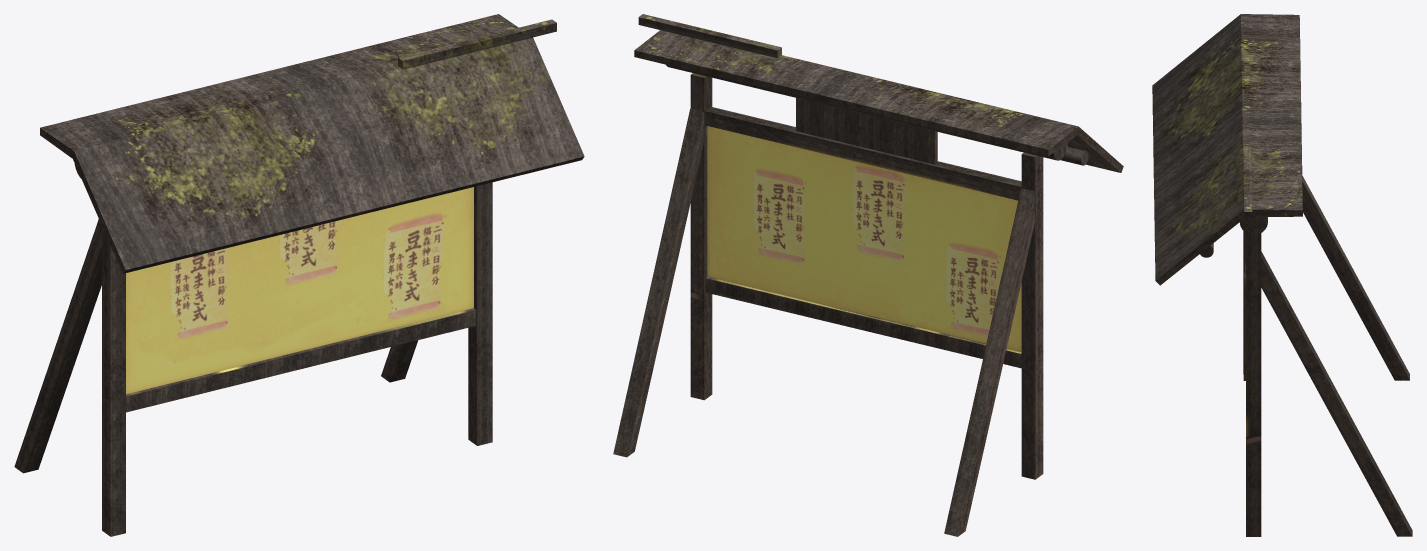
Rendered from NNJ0810012.fbx.
3 renders of one model, left to right at view 1: azimuth 30°, elevation 25°; view 2: azimuth 150°, elevation 25°; view 3: azimuth 270°, elevation 25°, orthographic. The views are drawn at different scales.
Visible parts, largest first — view 1: smNNJ0810012; view 2: smNNJ0810012; view 3: smNNJ0810012.
Boxes of the visible parts, box(x1,y1,x2,y2) form: smNNJ0810012: box(14, 14, 584, 536); smNNJ0810012: box(613, 14, 1123, 536); smNNJ0810012: box(1152, 14, 1412, 536).
Bounding box in the file's own units: 169 × 135 × 90.43.
1 material, 1 textured.
